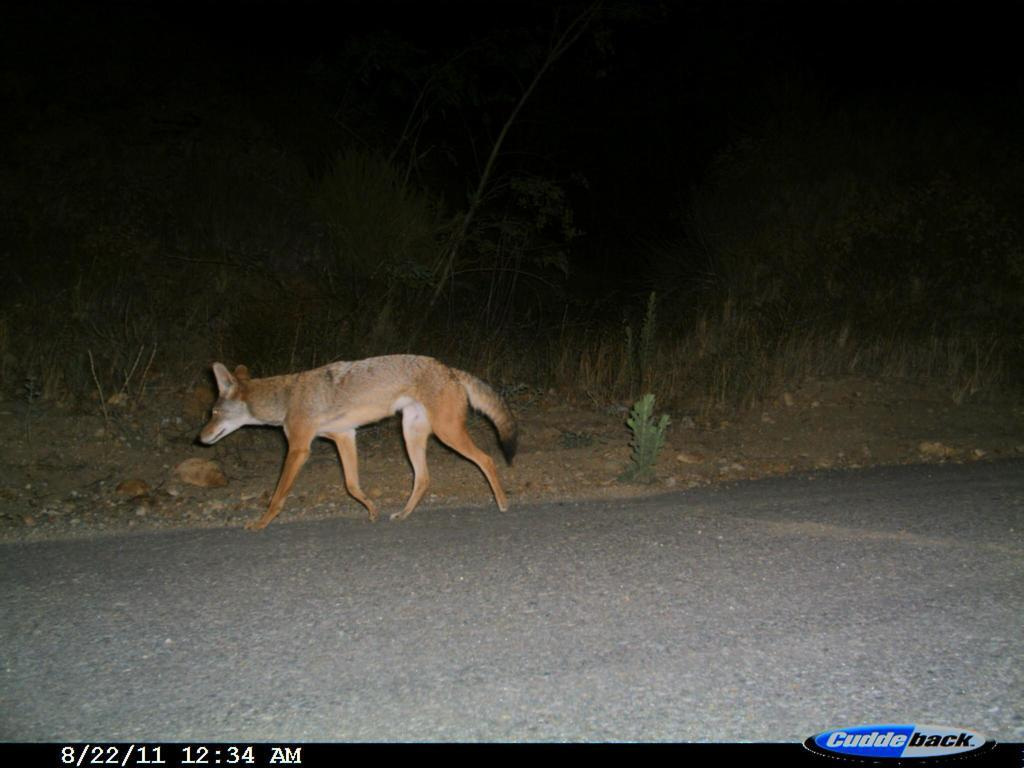coyote: (191, 350, 523, 538)
